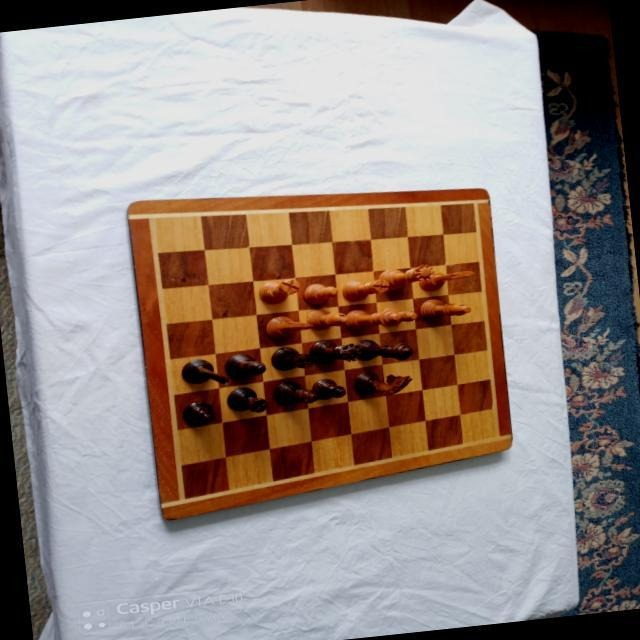black-bishop: (271, 377, 319, 407), (225, 351, 267, 381)
black-king: (351, 334, 413, 366)
black-knight: (350, 366, 413, 400), (179, 354, 231, 389)
black-pawn: (180, 399, 216, 428), (310, 376, 346, 401)
black-queen: (308, 335, 364, 367)
black-rook: (224, 384, 269, 416), (268, 344, 314, 372)
white-bishop: (417, 293, 471, 322), (307, 305, 349, 331)
white-king: (342, 304, 402, 332)
white-knight: (416, 265, 476, 293), (263, 312, 315, 343)
white-pawn: (301, 280, 339, 307), (378, 304, 417, 328)
white-queen: (376, 263, 436, 294)
white-rook: (340, 275, 390, 304), (257, 276, 301, 305)
